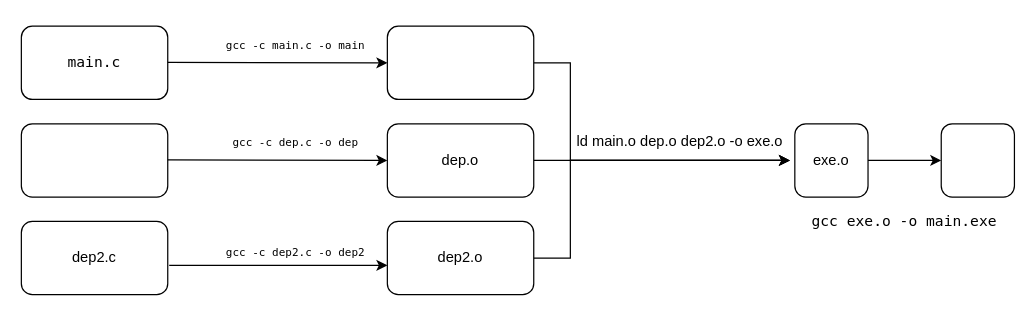
Some shapes in this 1036 by 316 pixel diagram are drawn without their labels. The box of each missing label's shape, as (x1, y1, x2, y2) in pixels:
dep.c: (20, 123, 168, 197)
main.exe: (940, 123, 1014, 197)
main.o: (386, 25, 534, 99)
